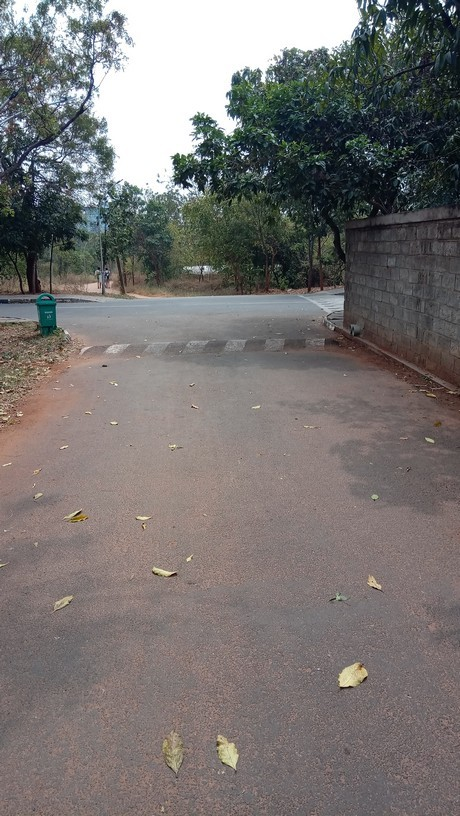bump: (60, 332, 344, 352)
